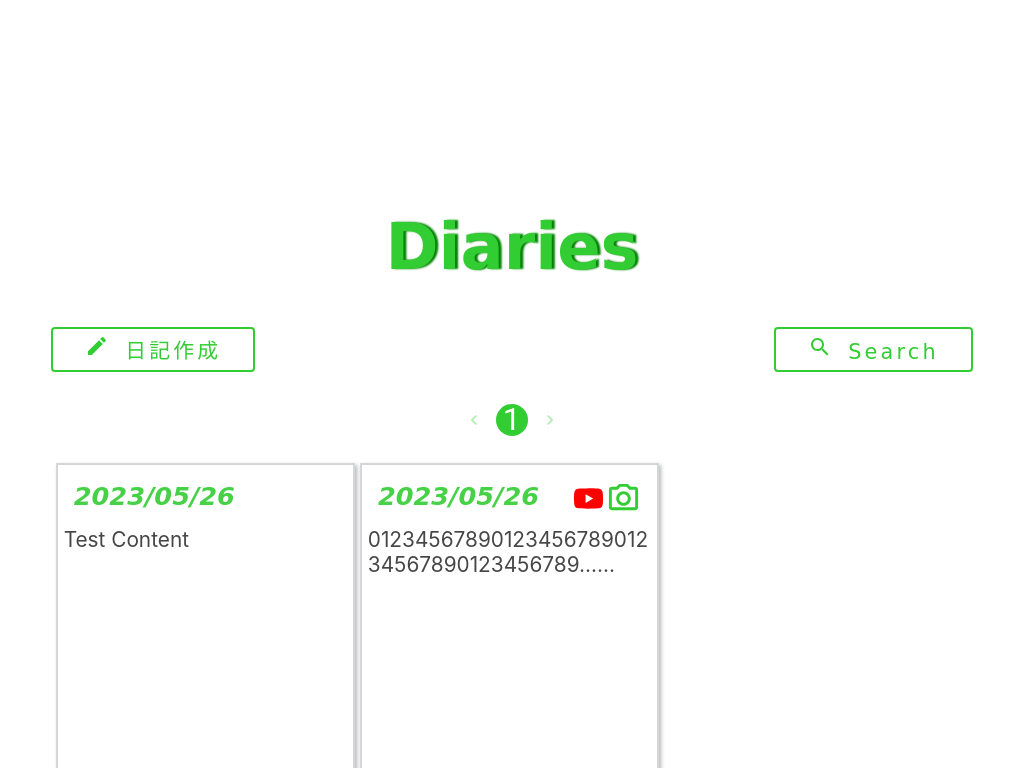
Test case: LoginHome › DiaryCreateDialog › OpenButtonクリックで開く
Click the button with test id "diaryCreateOpenButton" at point(153, 349), box [51,327,255,372]
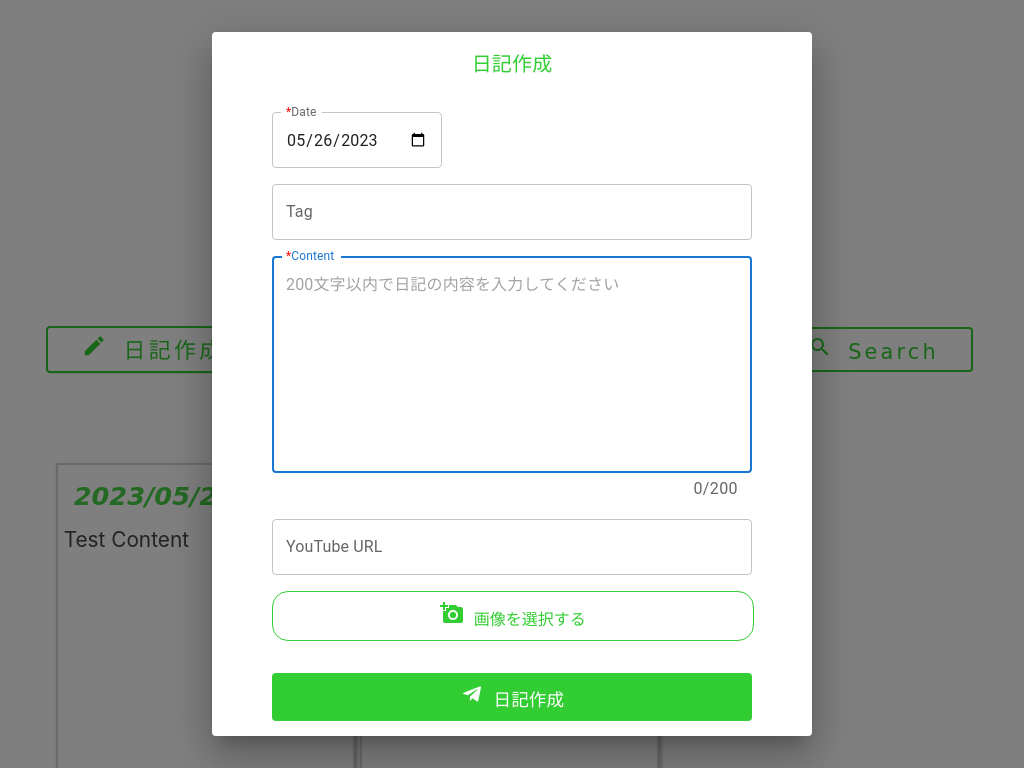
Now the element with test id "diaryCreateDialog" is shown
